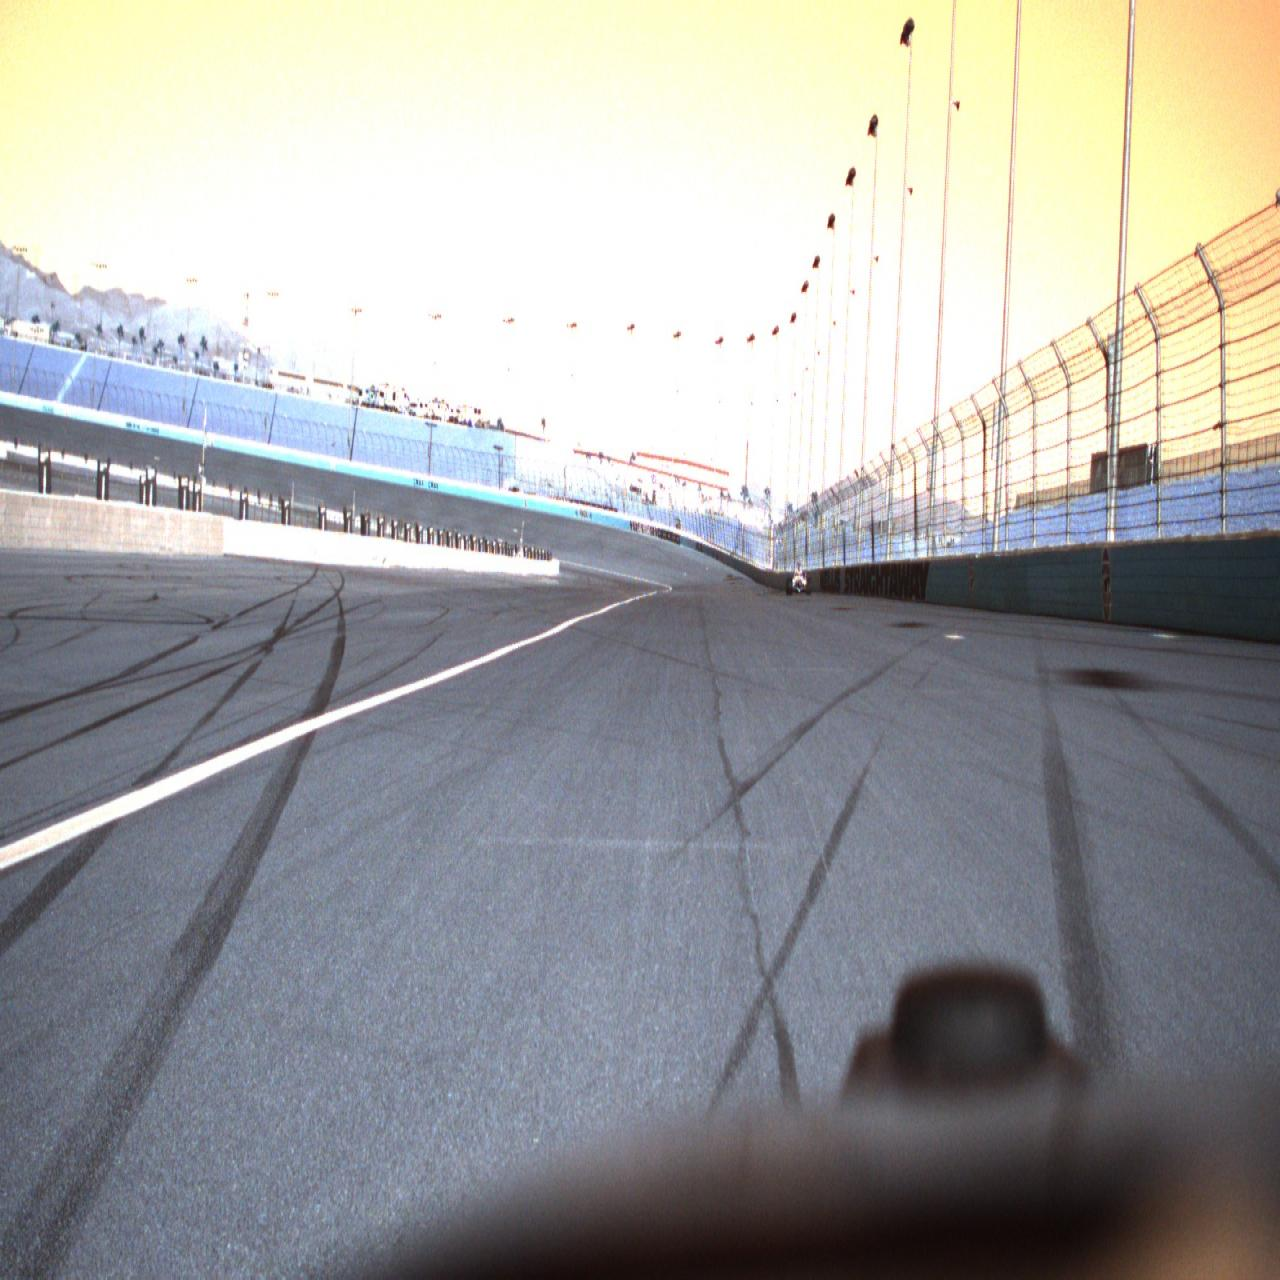AV: (787, 563, 812, 595)
Wheel: (787, 577, 792, 594), (806, 577, 811, 594)
